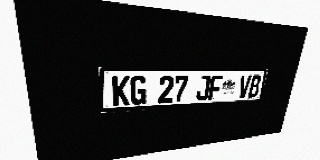2: (158, 75, 174, 103)
7: (173, 75, 189, 102)
B: (248, 75, 262, 98)
F: (208, 75, 223, 100)
G: (130, 75, 147, 105)
J: (195, 75, 211, 101)
K: (112, 76, 130, 106)
V: (237, 75, 252, 98)
